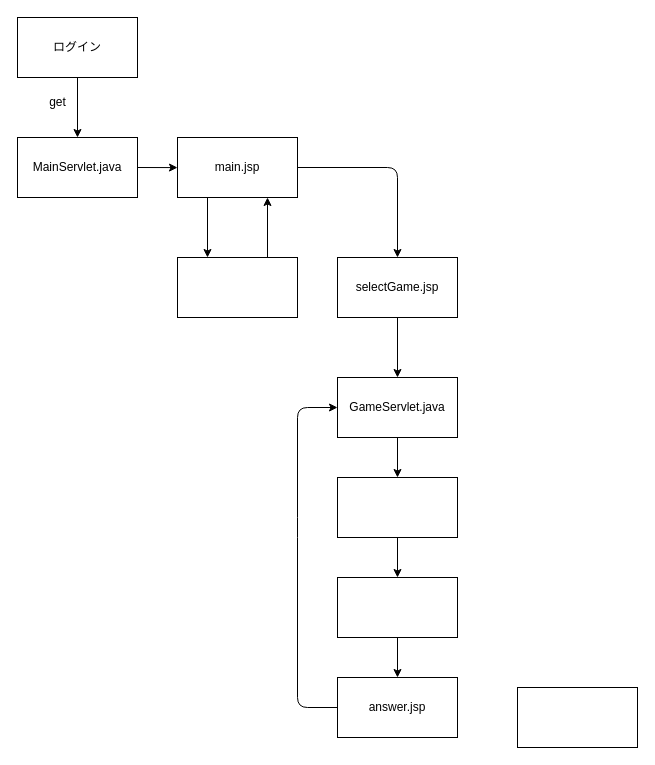
This 655x765 diagram has some shape labels left out. Here are the shapes that lost their labels. From the top down, the centre of each, then its label:
pixel 237 287: tutorial.jsp
pixel 397 507: question.jsp
pixel 397 607: answerServlet.java
